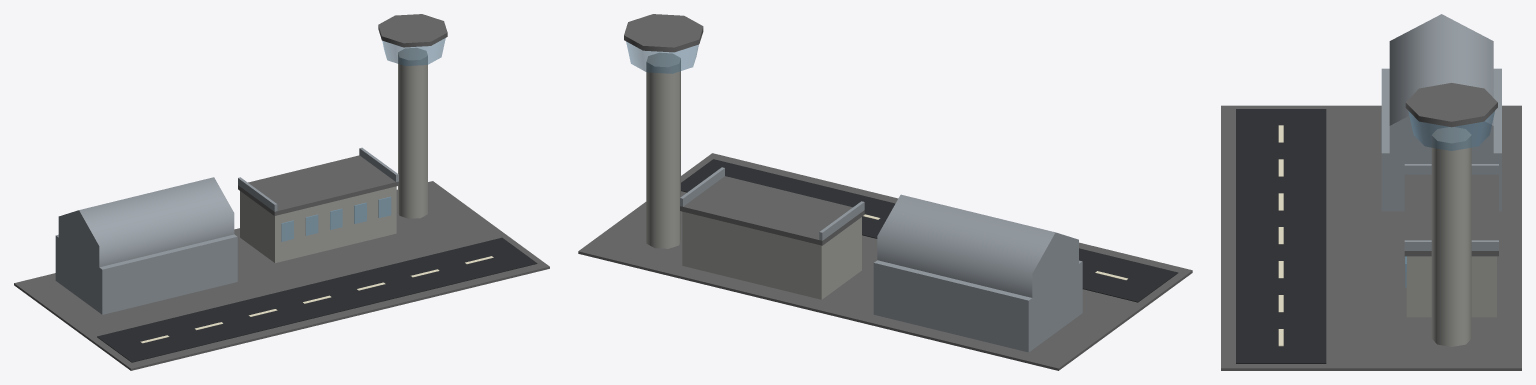
File: bld_special_airport_a07_lod1.glb
3 views of the same model, side by side, from view 1: azimuth 30°, elevation 25°; view 2: azimuth 150°, elevation 25°; view 3: azimuth 270°, elevation 25° (orthographic). The views are drawn at different scales.
Parts seen in each view (by area): view 1: body; view 2: body; view 3: body.
Boxes of the visible parts, box(x1,y1,x2,y2) form: body: box(14, 14, 549, 370); body: box(578, 14, 1192, 370); body: box(1221, 14, 1521, 370).
Bounding box in the file's own units: 31 × 13.15 × 15.
